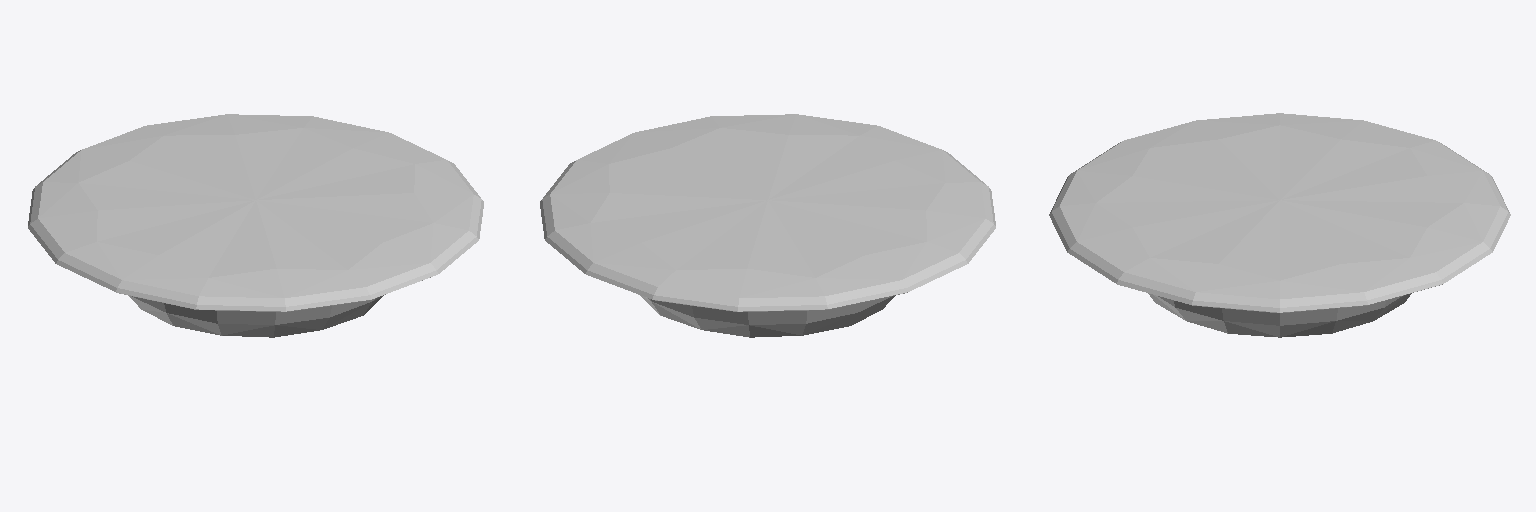
Rendered from Platafrom1.obj.
3 renders of one model, left to right at view 1: azimuth 30°, elevation 25°; view 2: azimuth 150°, elevation 25°; view 3: azimuth 270°, elevation 25°, orthographic.
Parts seen in each view (by area): view 1: Cube; view 2: Cube; view 3: Cube.
Part boxes in pixels (left/top/right/bottom): Cube: left=28, top=114, right=483, bottom=337; Cube: left=540, top=114, right=995, bottom=337; Cube: left=1049, top=113, right=1510, bottom=337.
Size of the model in its own units: 8 by 2.13 by 8.